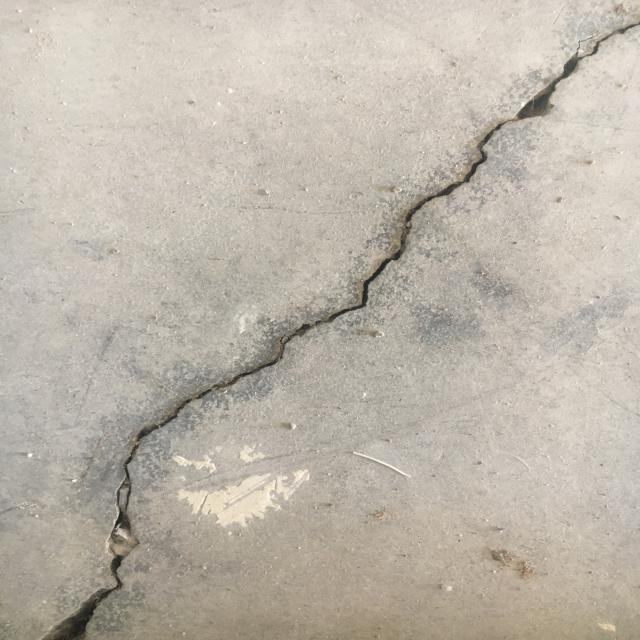Rachadura: (36, 19, 640, 640)
